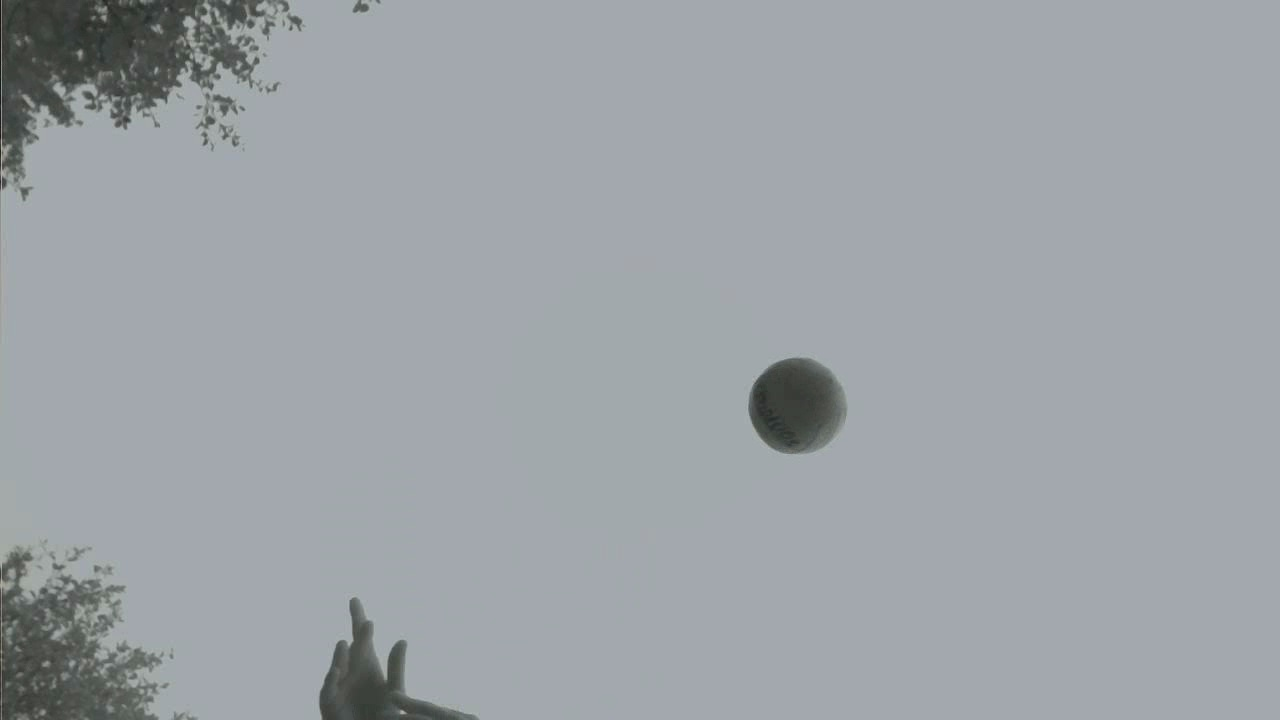Football-Spotter: (749, 358, 846, 453)
